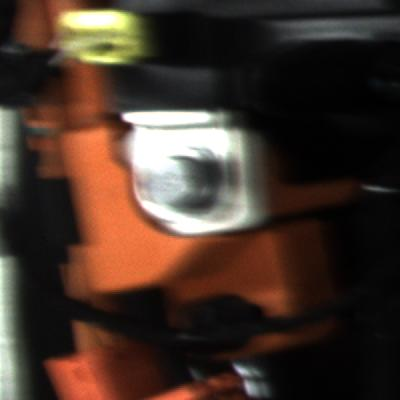nut_b: (132, 136, 226, 225)
